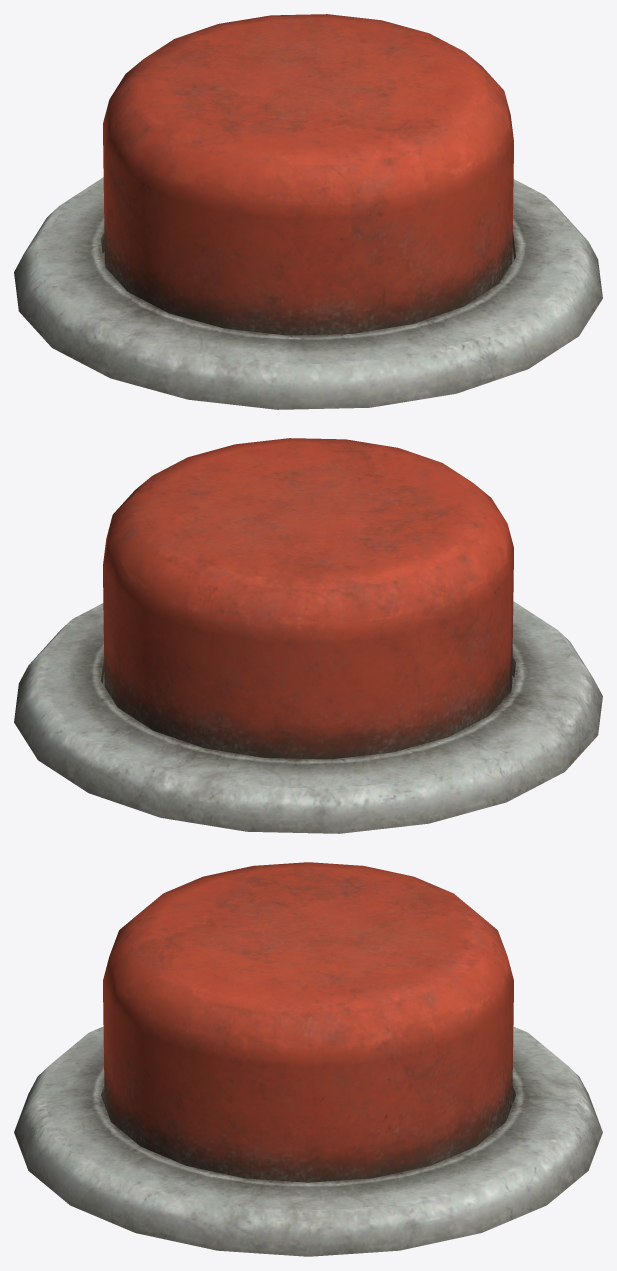
Rendered from button.glb.
3 views of the same model, one above another, from view 1: azimuth 30°, elevation 25°; view 2: azimuth 150°, elevation 25°; view 3: azimuth 270°, elevation 25° (orthographic).
Parts seen in each view (by area): view 1: SM_SimpleButton_B.001_2, SM_SimpleButton_Base_B.001_0; view 2: SM_SimpleButton_B.001_2, SM_SimpleButton_Base_B.001_0; view 3: SM_SimpleButton_B.001_2, SM_SimpleButton_Base_B.001_0.
Part boxes in pixels (x1,y1,x2,y2): SM_SimpleButton_B.001_2: [103, 14, 513, 335]; SM_SimpleButton_Base_B.001_0: [14, 177, 602, 409]; SM_SimpleButton_B.001_2: [103, 438, 513, 759]; SM_SimpleButton_Base_B.001_0: [14, 601, 602, 833]; SM_SimpleButton_B.001_2: [103, 862, 513, 1182]; SM_SimpleButton_Base_B.001_0: [14, 1026, 602, 1256].
Bounding box in the file's own units: 24.07 × 9.07 × 24.07.
Materials: 1 (1 with a texture image).
